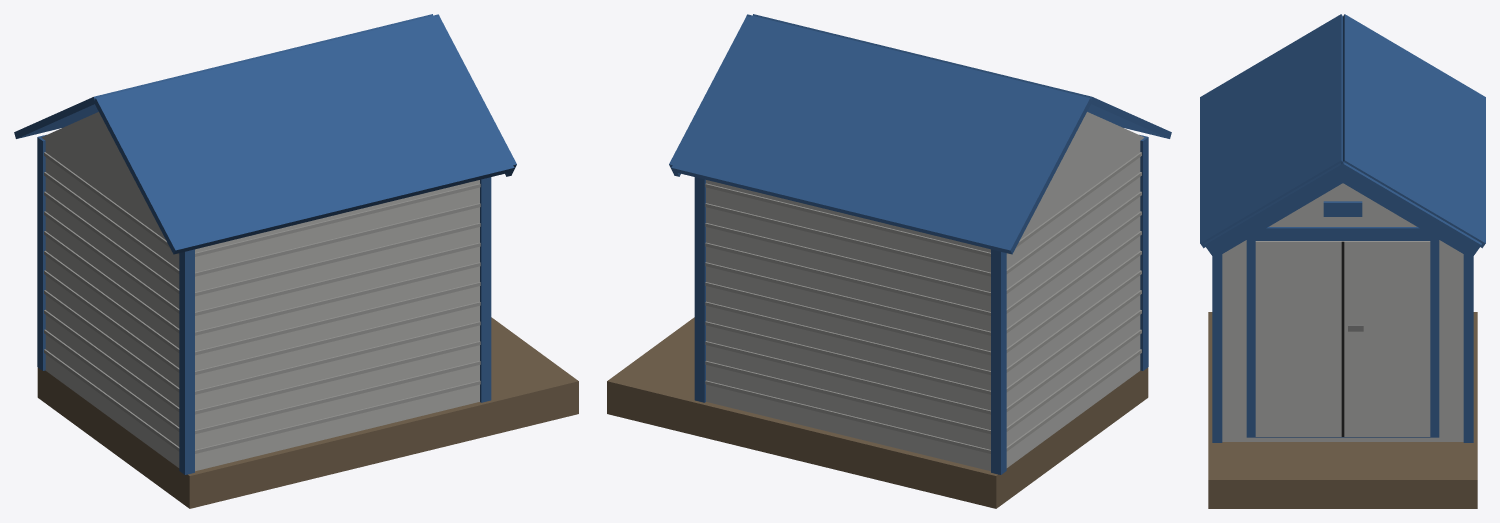
Rendered from SM_Prop_coast_beachhut_4.glb.
3 renders of one model, left to right at view 1: azimuth 30°, elevation 25°; view 2: azimuth 150°, elevation 25°; view 3: azimuth 270°, elevation 25°, orthographic. The views are drawn at different scales.
Parts seen in each view (by area): view 1: SM_Prop_coast_beachhut_4; view 2: SM_Prop_coast_beachhut_4; view 3: SM_Prop_coast_beachhut_4.
Boxes of the visible parts, bbox=[...] form: SM_Prop_coast_beachhut_4: bbox=[14, 14, 578, 508]; SM_Prop_coast_beachhut_4: bbox=[607, 14, 1171, 508]; SM_Prop_coast_beachhut_4: bbox=[1200, 14, 1485, 508].
Size of the model in its own units: 3.25 by 2.74 by 2.23.
